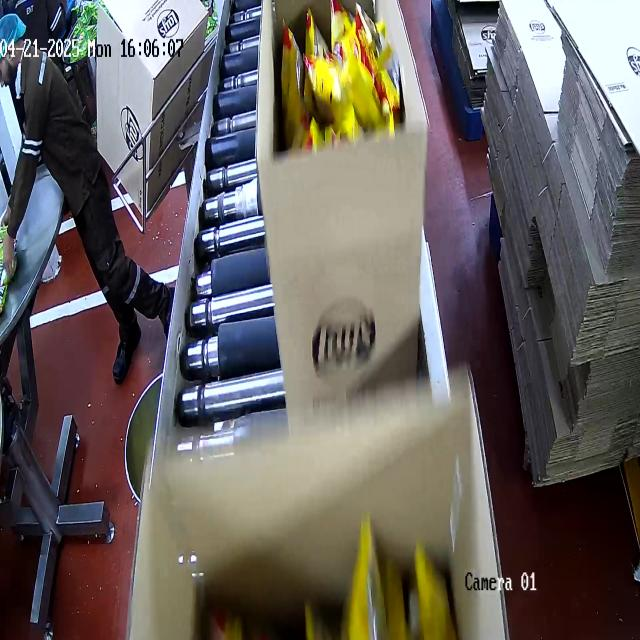SALTED: (208, 538, 463, 640), (265, 11, 417, 162)
